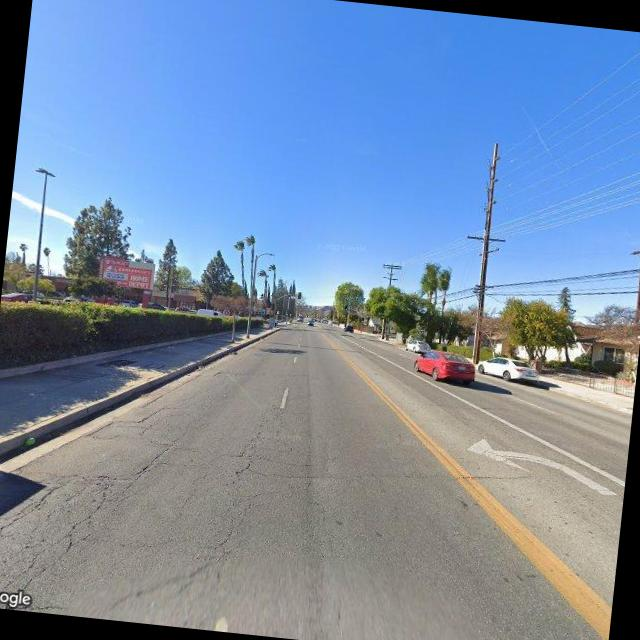crack: (0, 429, 167, 599), (160, 391, 280, 593), (260, 436, 531, 504)
